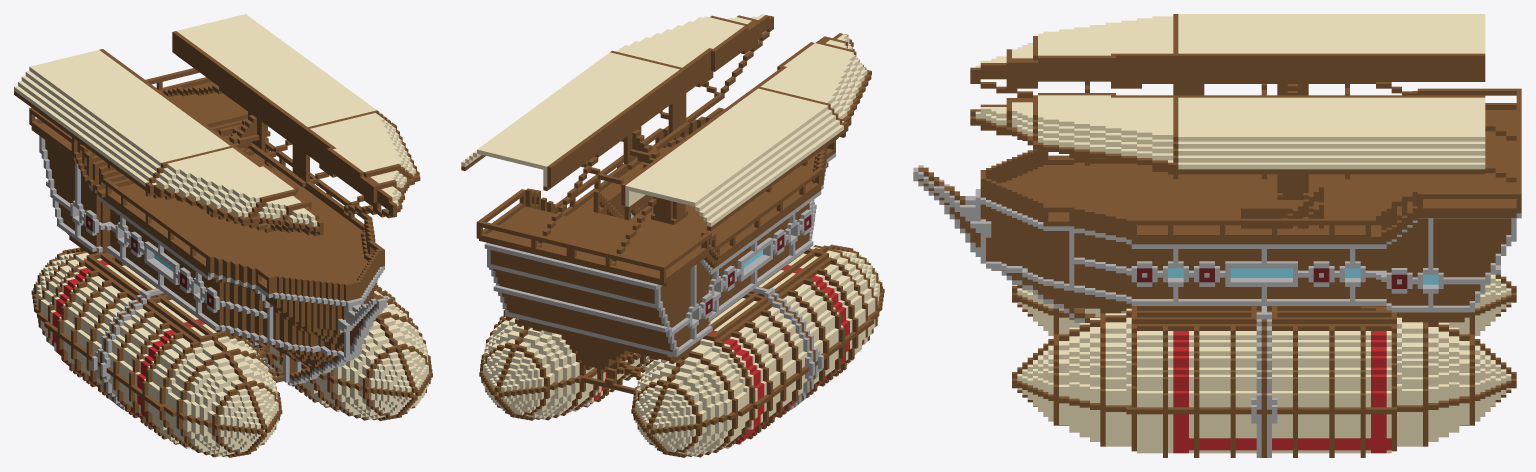
Rendered from AirshipBase-0.obj.
3 renders of one model, left to right at view 1: azimuth 30°, elevation 25°; view 2: azimuth 150°, elevation 25°; view 3: azimuth 270°, elevation 25°, orthographic. The views are drawn at different scales.
Visible parts, largest first — view 1: AirshipBase-0; view 2: AirshipBase-0; view 3: AirshipBase-0.
Boxes of the visible parts, x1,y1,x2,y2 form: AirshipBase-0: [14, 14, 432, 457]; AirshipBase-0: [461, 14, 884, 457]; AirshipBase-0: [913, 14, 1521, 457].
Bounding box in the file's own units: 70 × 70 × 117.
1 material, 1 textured.
